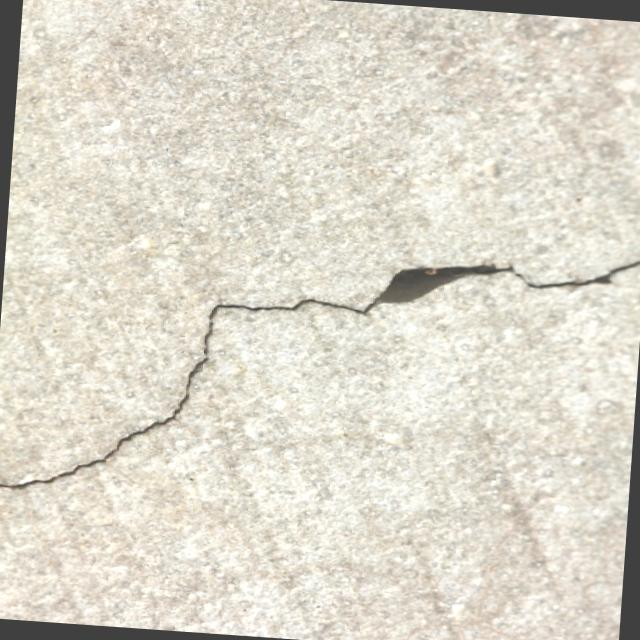crack: (208, 228, 640, 345), (0, 302, 213, 506)
